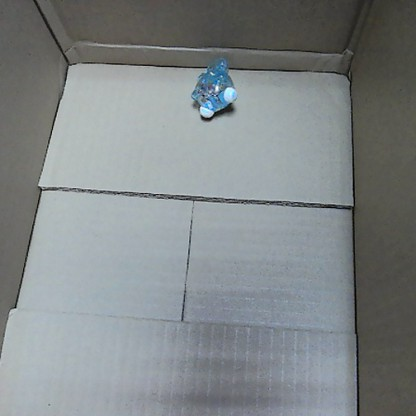bluefish: (186, 54, 238, 122)
